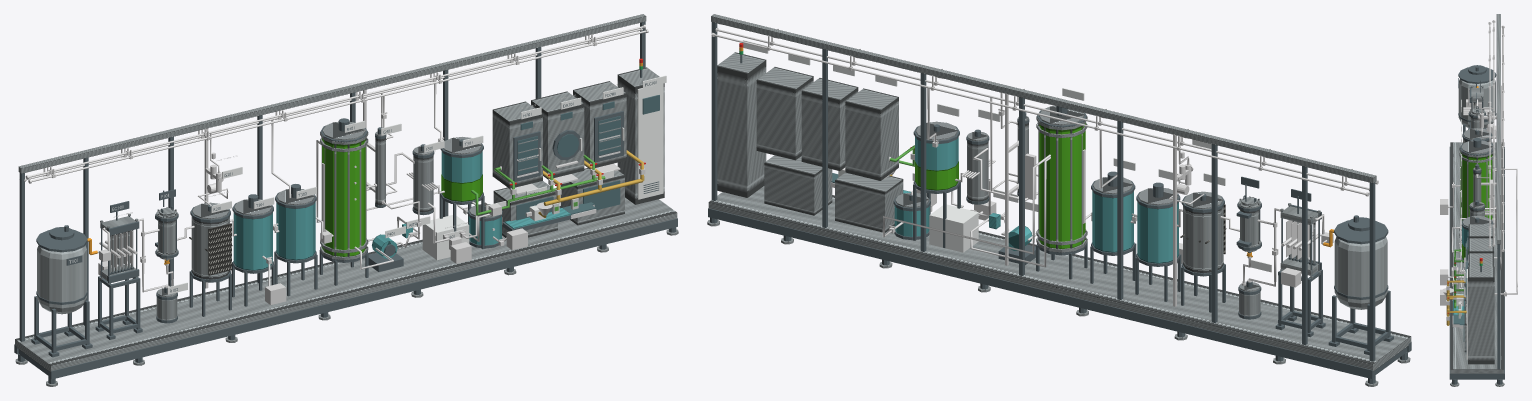
The model's file is dmr-machine.glb.
The picture shows the model from 3 angles, left to right: view 1: azimuth 30°, elevation 25°; view 2: azimuth 150°, elevation 25°; view 3: azimuth 270°, elevation 25°; orthographic projection. The views are drawn at different scales.
Visible parts, largest first — view 1: Skid_Deck, Skid_Long_Beam, Overhead_Frame_Beam, R401_Body, T101_Tank_Body_12_Sides, PLC901_Door, H701_Cabinet, DR701_Cabinet, PLC901_Cabinet, T302_Body, T301_Body, FD701_Cabinet (+20 smaller); view 2: Skid_Deck, Skid_Long_Beam.001, Overhead_Frame_Beam, PLC901_Cabinet, H701_Cabinet, R401_Body, FD701_Cabinet, DR701_Cabinet, PK801_Machine, T801_Machine, T101_Tank_Body_12_Sides, R201_Body (+23 smaller); view 3: Skid_Deck, PLC901_Cabinet, R401_Body, Overhead_Frame_Beam, T101_Tank_Body_12_Sides, Rear_Frame_Post.007, Skid_Long_Beam, REF_HEADER_WATER, REF_HEADER_CARBON_GAS, REF_HEADER_AIR, T101_Retaining_Band.001, DR701_Cabinet (+31 smaller).
Boxes of the visible parts, x1,y1,x2,y2 form: Skid_Deck: (15,197,677,372); Skid_Long_Beam: (48,218,677,379); Overhead_Frame_Beam: (18,14,646,173); R401_Body: (322,138,365,256); T101_Tank_Body_12_Sides: (37,245,86,314); PLC901_Door: (637,83,663,199); H701_Cabinet: (492,101,542,188); DR701_Cabinet: (531,91,584,179); PLC901_Cabinet: (617,67,664,204); T302_Body: (276,202,315,260); T301_Body: (233,213,272,270); FD701_Cabinet: (573,81,626,168); Skid_Deck: (708,186,1411,371); Skid_Long_Beam.001: (708,208,1375,378); Overhead_Frame_Beam: (711,14,1376,183); PLC901_Cabinet: (717,52,766,197); H701_Cabinet: (845,88,898,180); R401_Body: (1039,123,1085,248); FD701_Cabinet: (756,67,813,160); DR701_Cabinet: (801,78,858,170); PK801_Machine: (835,172,903,232); T801_Machine: (764,155,832,215); T101_Tank_Body_12_Sides: (1334,237,1387,309); R201_Body: (1183,206,1223,273); Skid_Deck: (1450,142,1504,374); PLC901_Cabinet: (1468,266,1494,364); R401_Body: (1460,152,1492,220); Overhead_Frame_Beam: (1496,14,1500,244); T101_Tank_Body_12_Sides: (1458,79,1495,128); Rear_Frame_Post.007: (1497,244,1500,369); Skid_Long_Beam: (1449,147,1450,379); REF_HEADER_WATER: (1502,27,1503,248); REF_HEADER_CARBON_GAS: (1489,23,1490,245); REF_HEADER_AIR: (1493,21,1494,243); T101_Retaining_Band.001: (1458,67,1496,83); DR701_Cabinet: (1468,238,1493,253).
Size of the model in its own units: 16.33 by 4.84 by 2.35.
24 materials, 5 textured.
